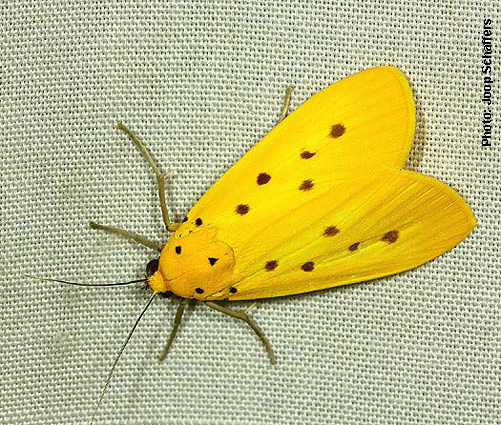Agape chloropyga: (23, 64, 478, 425)
moth: (24, 64, 479, 425)
